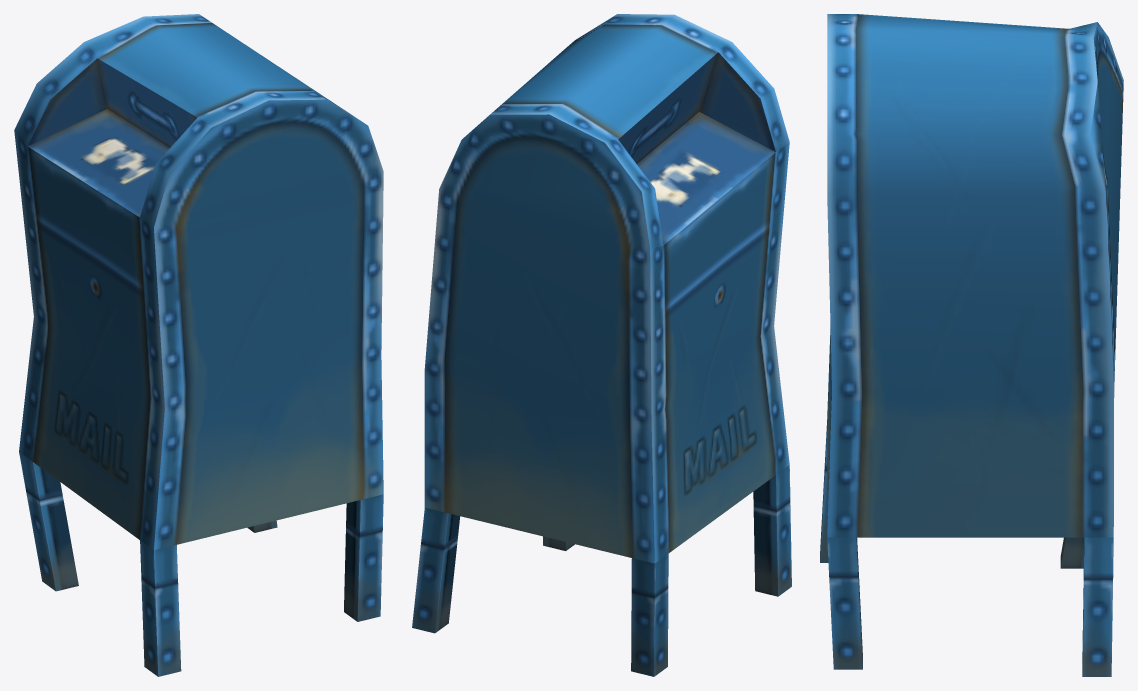
File: mailbox05_B.fbx
3 renders of one model, left to right at view 1: azimuth 30°, elevation 25°; view 2: azimuth 150°, elevation 25°; view 3: azimuth 270°, elevation 25°, orthographic. The views are drawn at different scales.
Visible parts, largest first — view 1: mailbox05_B; view 2: mailbox05_B; view 3: mailbox05_B.
Boxes of the visible parts, x1,y1,x2,y2 form: mailbox05_B: (14, 14, 383, 676); mailbox05_B: (412, 14, 791, 676); mailbox05_B: (820, 14, 1123, 676).
Bounding box in the file's own units: 61.52 × 132 × 62.47.
